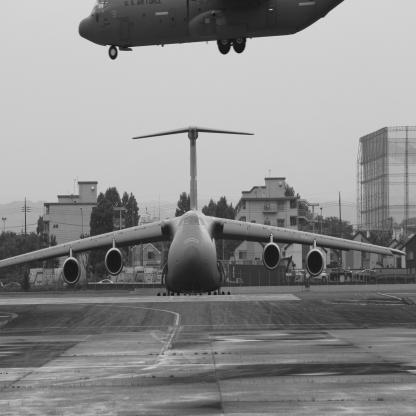C130: (79, 1, 346, 61)
C5: (1, 126, 408, 297)
